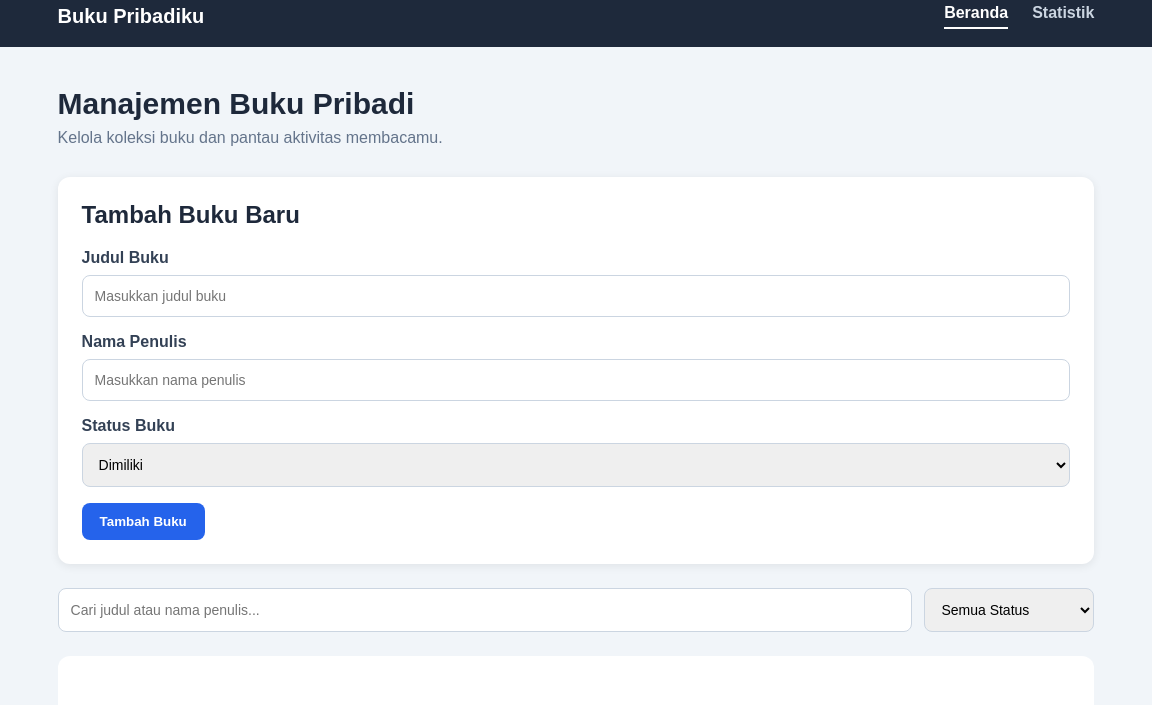
it: Pengujian Aplikasi Manajemen Buku › berhasil menambahkan buku
Type "Laskar Pelangi" into the field labelled "Judul Buku" at (576, 296), box [82,275,1070,317]
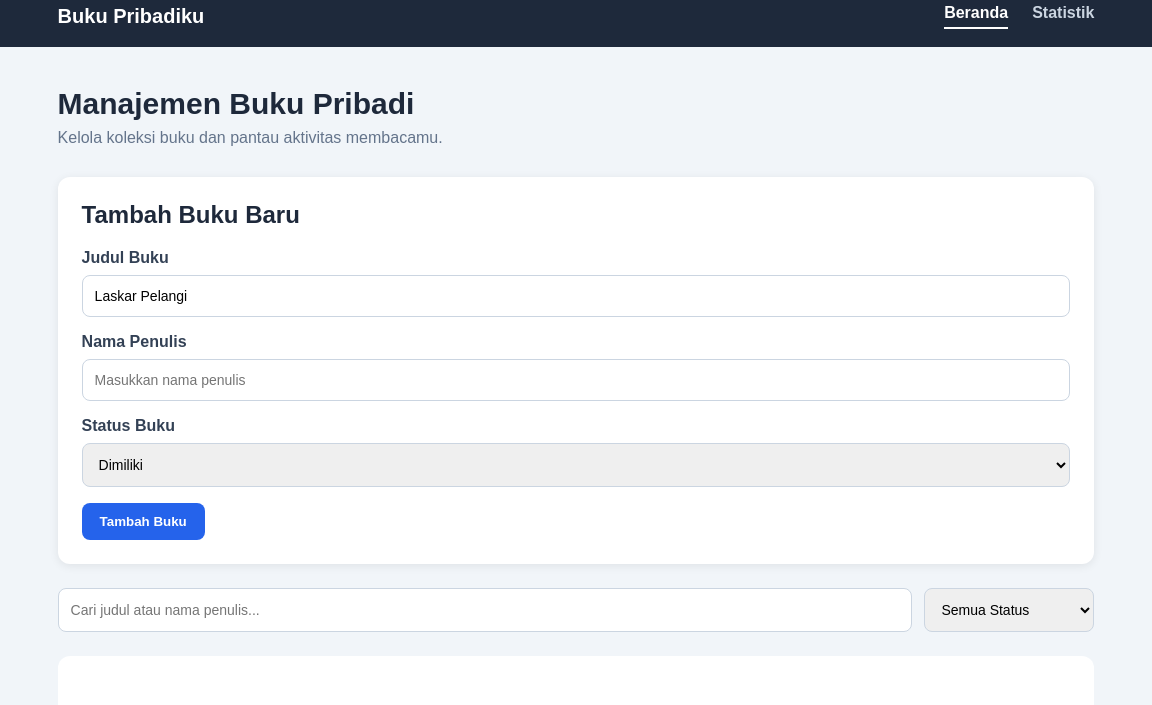
Type "Andrea Hirata" into the field labelled "Nama Penulis" at (576, 380), box [82,359,1070,401]
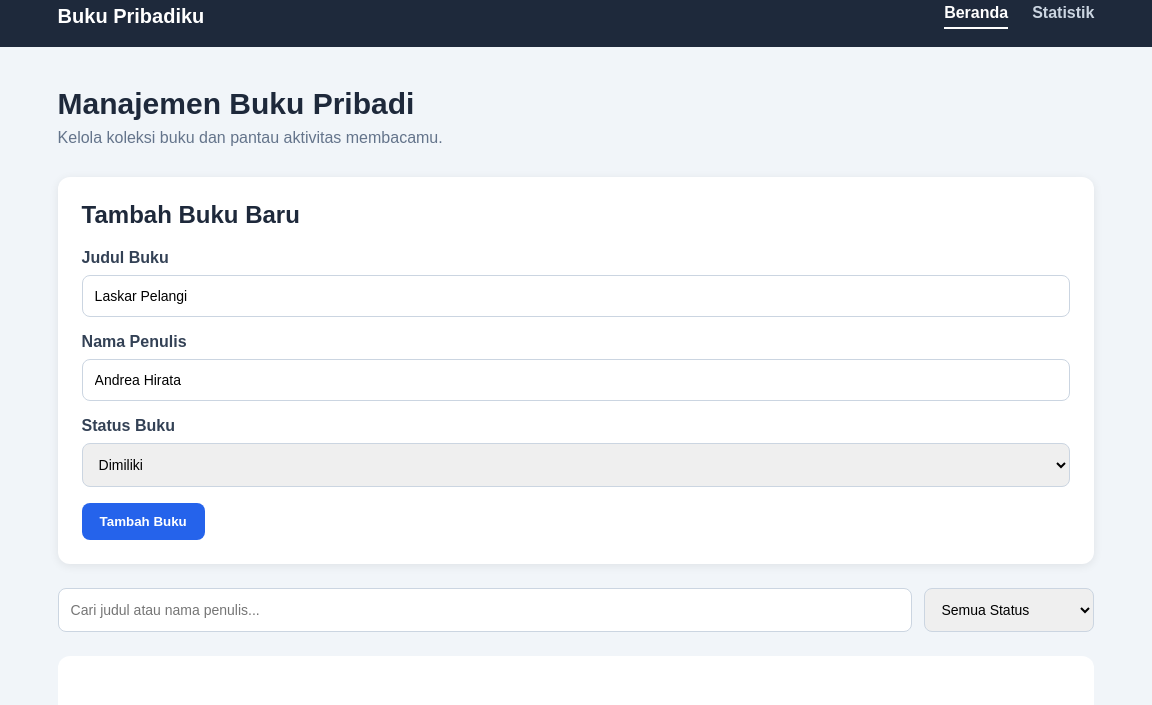
Click the button "Tambah Buku" at (143, 522), box [82,503,205,540]
(page scrolled)
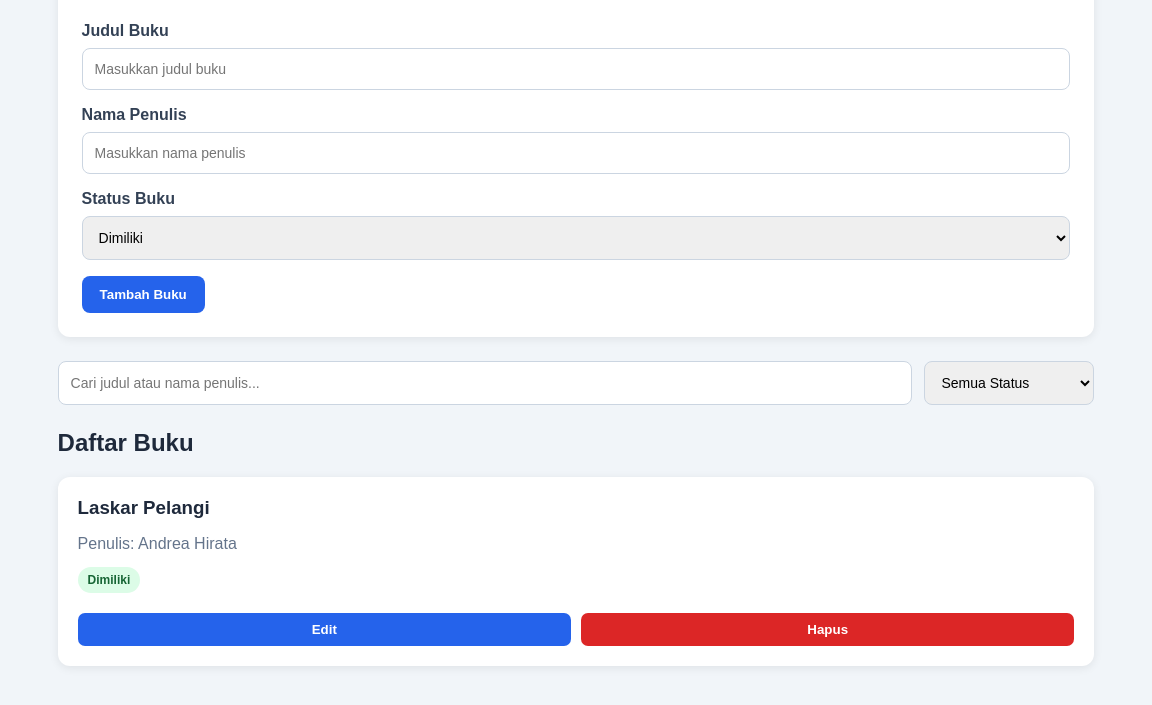
Now the heading "Laskar Pelangi" is shown, box [78,497,210,518]
